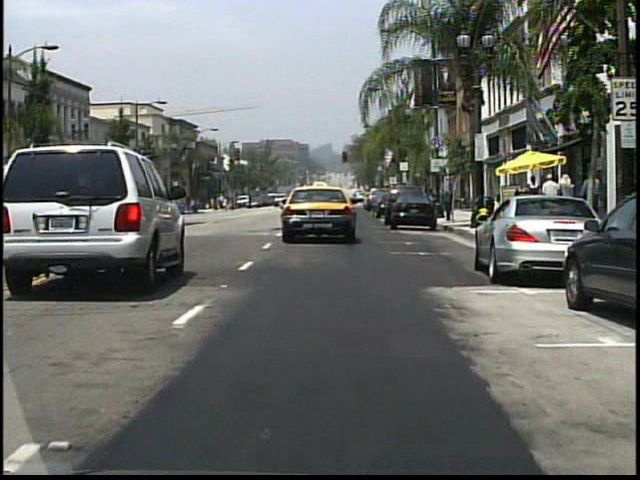person: (539, 171, 561, 225), (556, 172, 577, 226), (582, 171, 602, 227), (524, 175, 542, 221), (248, 193, 256, 208)
